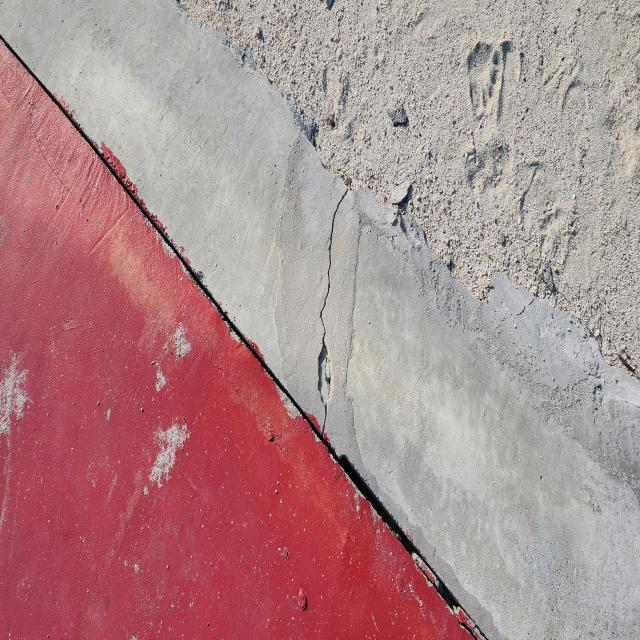SurfaceCrack: (0, 1, 500, 640)
